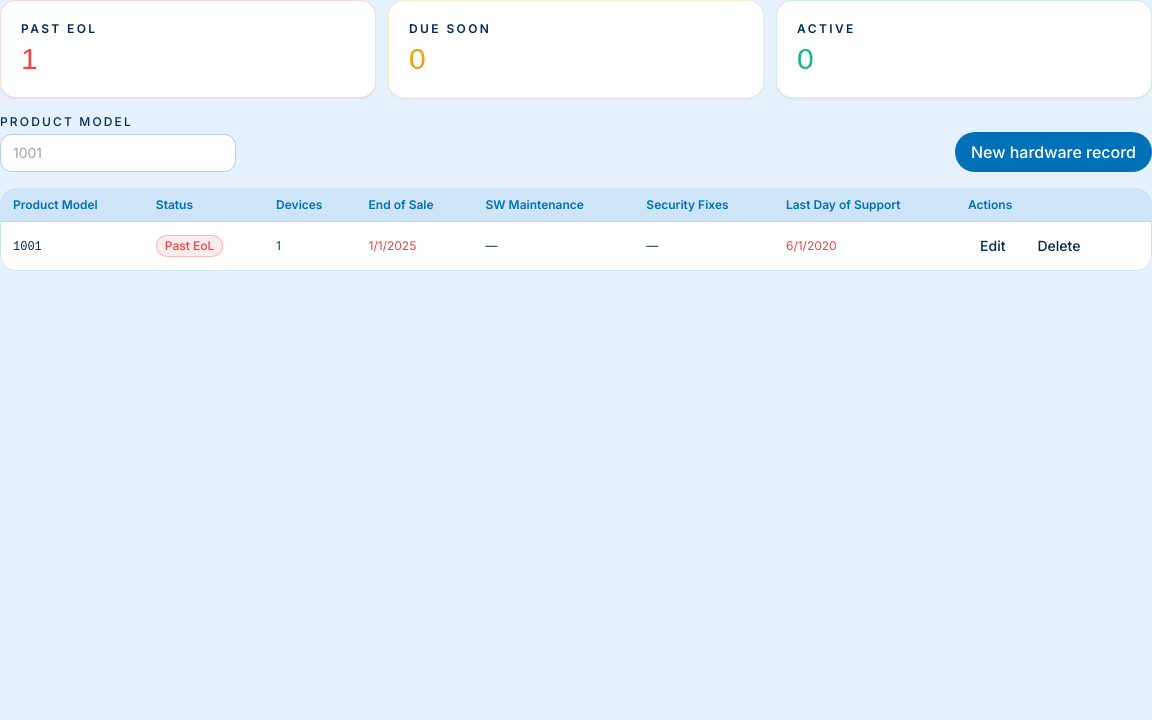
it: Lifecycle pages › opens a read-only view modal on row click with an explicit Edit action
The width and height of the screenshot is (1152, 720).
Click the text "1001": (27, 246) [13, 240, 42, 254]
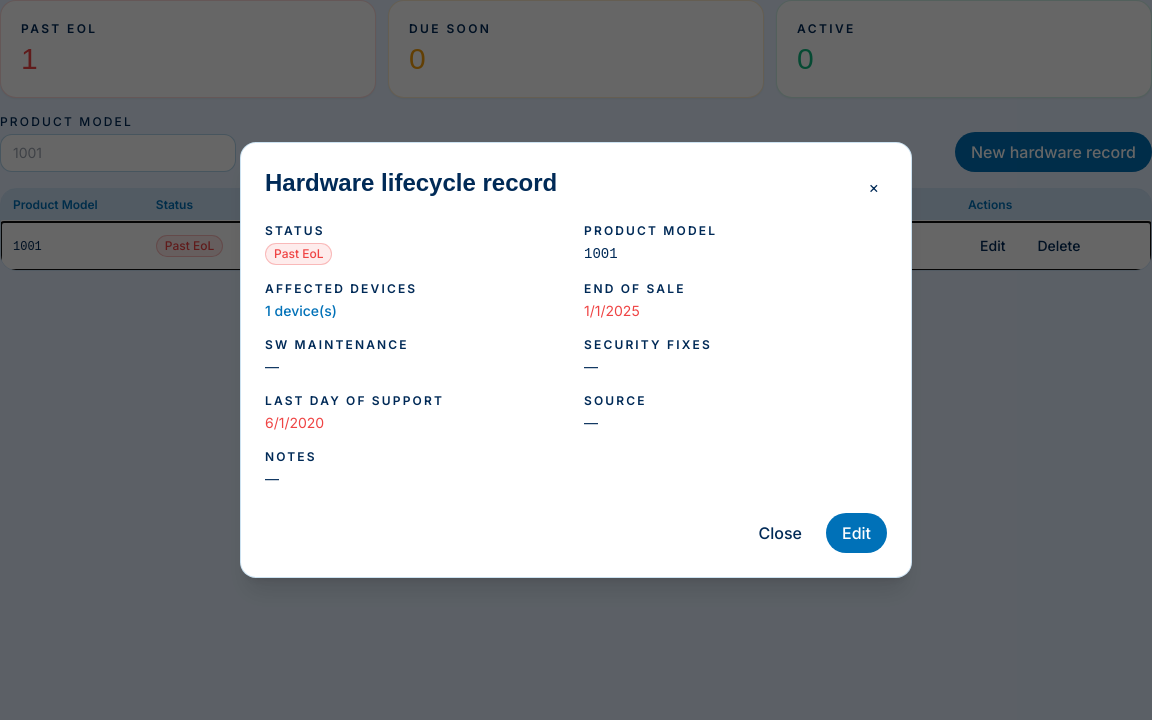
Now the heading "Hardware lifecycle record" is shown, box [265, 167, 557, 199]
Now the button "Edit" is shown
Clicking Edit switches to the edit form modal.
Click the button "Edit": (856, 533) [826, 513, 887, 553]
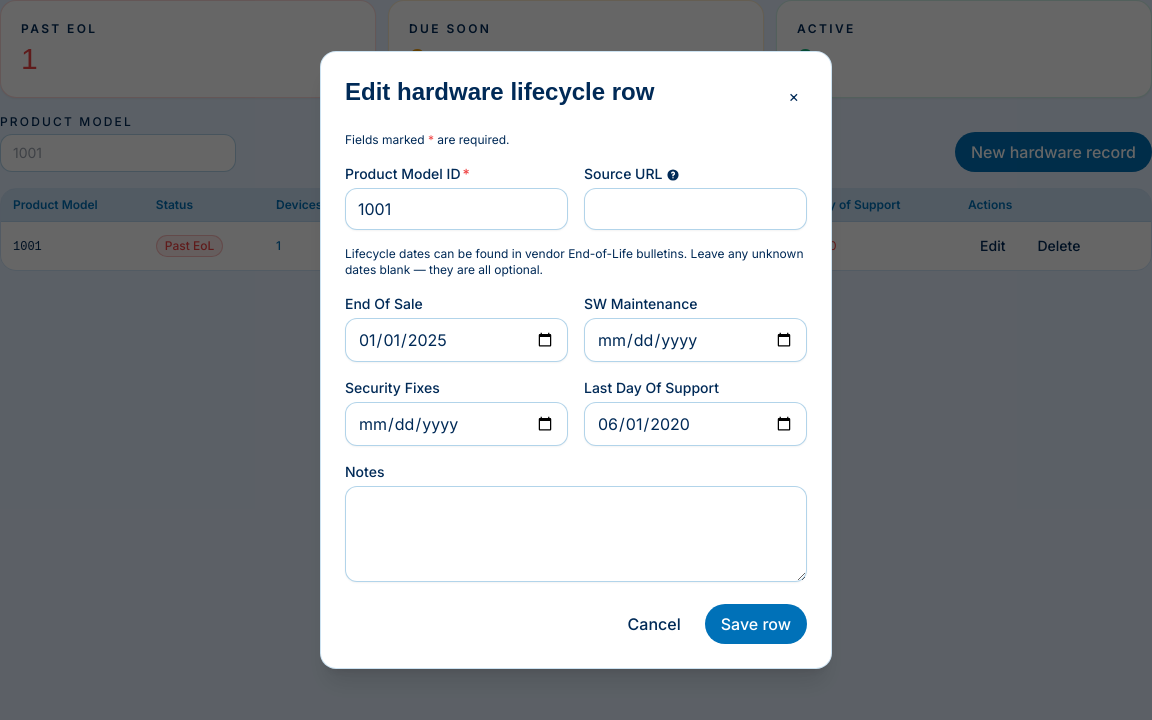
Now the heading "Edit hardware lifecycle row" is shown, box [345, 76, 654, 108]
